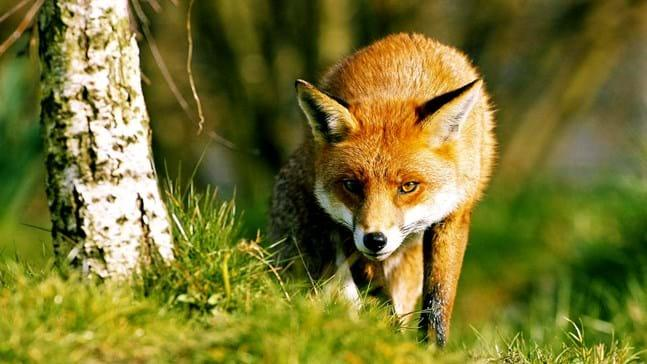fox: (261, 31, 492, 359)
